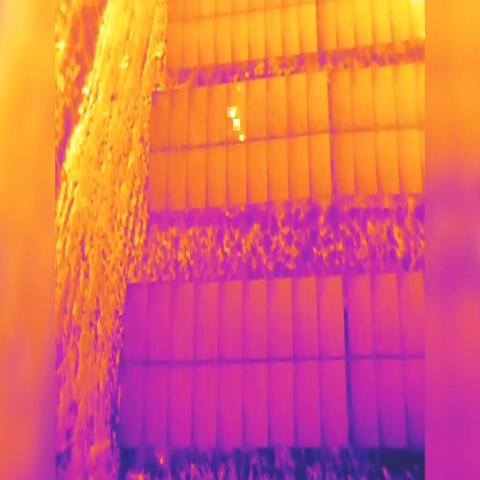fault: (227, 107, 236, 117), (233, 120, 240, 132), (239, 135, 244, 141)
